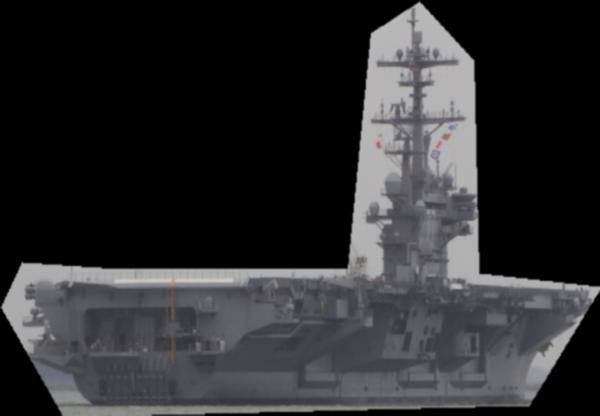Aircraft Carrier: (1, 1, 600, 416)
